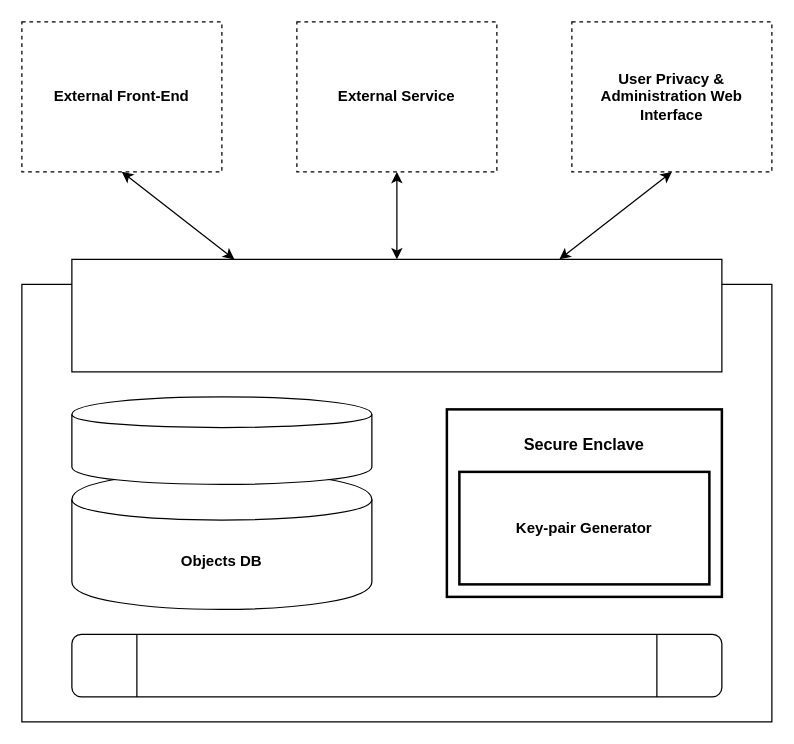
Some shapes in this 794 by 744 pixel diagram are drawn without their labels. Each missing label, with the centre of its shape:
Fast in-memory cache: the point at 221,440
PrivacyTransactionsLog: the point at 396,665
REST API: the point at 396,315
